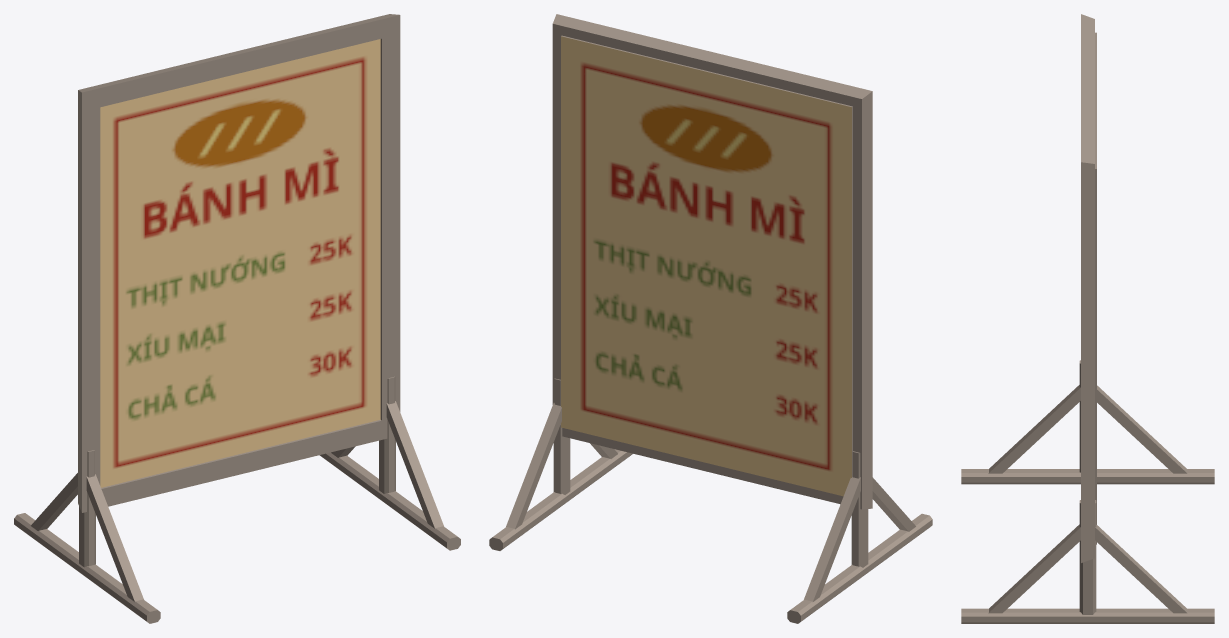
The model's file is SM_Sign_MenuPoster_01.fbx.
3 views of the same model, side by side, from view 1: azimuth 30°, elevation 25°; view 2: azimuth 150°, elevation 25°; view 3: azimuth 270°, elevation 25° (orthographic). The views are drawn at different scales.
Visible parts, largest first — view 1: SM_Sign_MenuPoster_01; view 2: SM_Sign_MenuPoster_01; view 3: SM_Sign_MenuPoster_01.
Boxes of the visible parts, box(x1,y1,x2,y2) form: SM_Sign_MenuPoster_01: box(14, 14, 460, 623); SM_Sign_MenuPoster_01: box(489, 14, 932, 623); SM_Sign_MenuPoster_01: box(961, 14, 1214, 623).
Size of the model in its own units: 0.554 by 0.809 by 0.4.
Materials: 1 (1 with a texture image).
